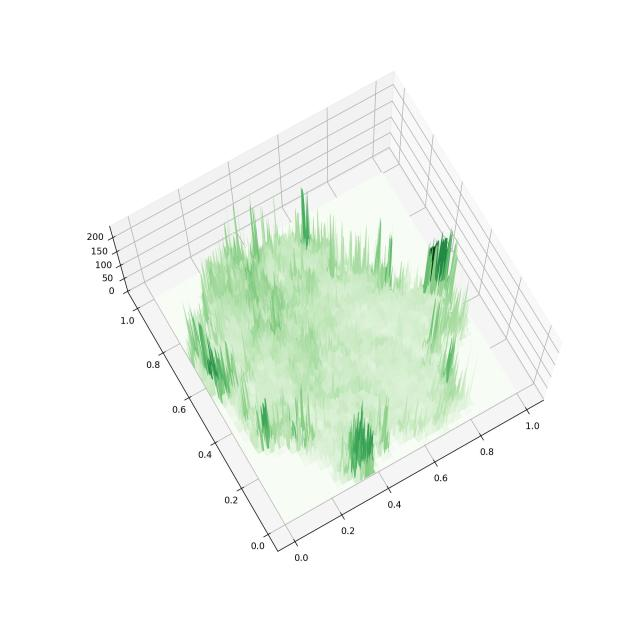fir: (72, 40, 606, 579)
